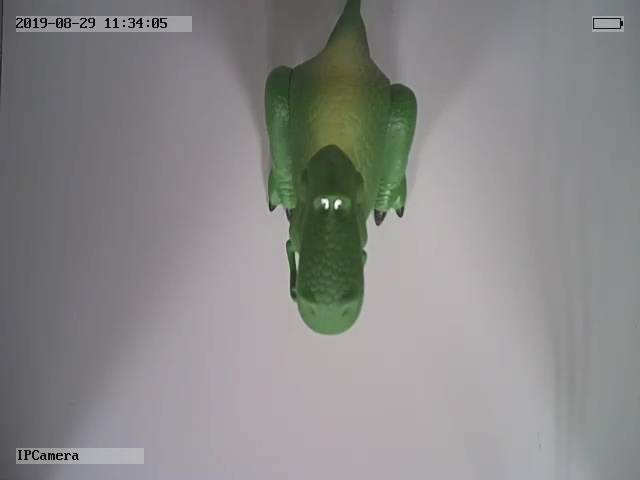rex: (258, 1, 421, 339)
